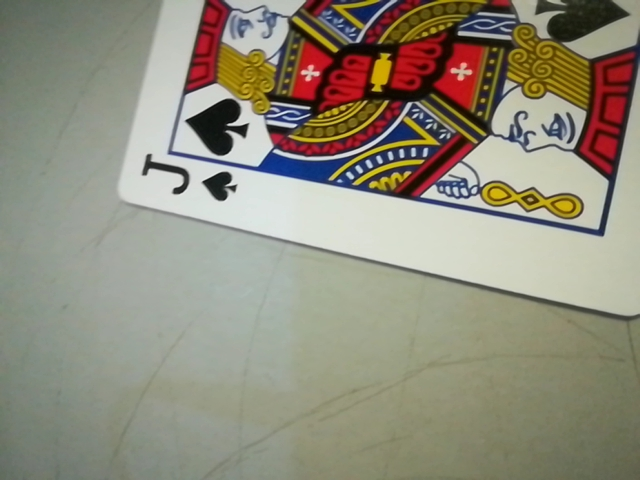ht j: (124, 140, 248, 215)
